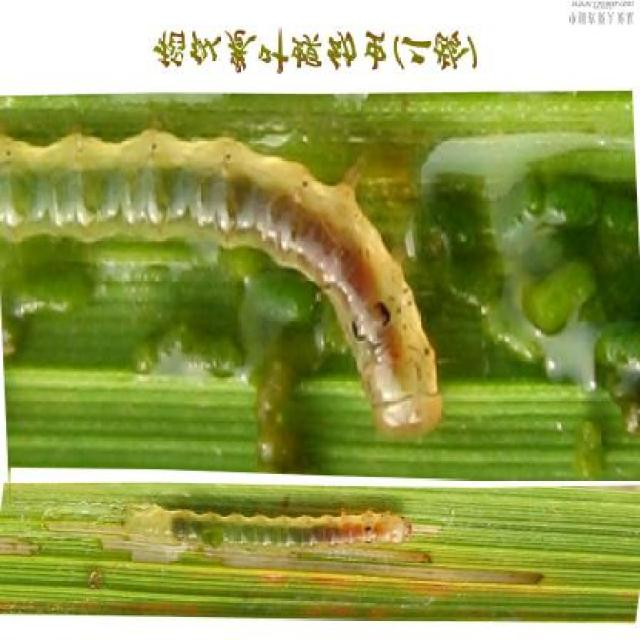leaf-folder: (0, 104, 483, 453), (96, 469, 442, 605)
